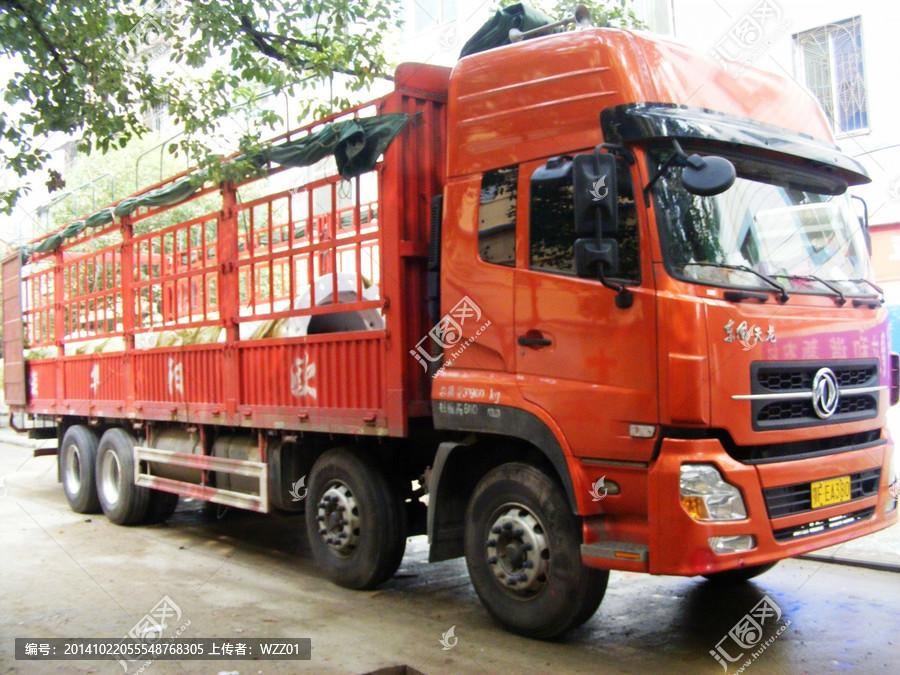truck: (1, 22, 890, 634)
